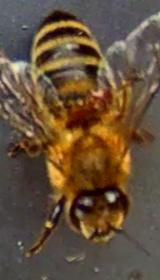varroa_mite: (78, 75, 119, 115)
